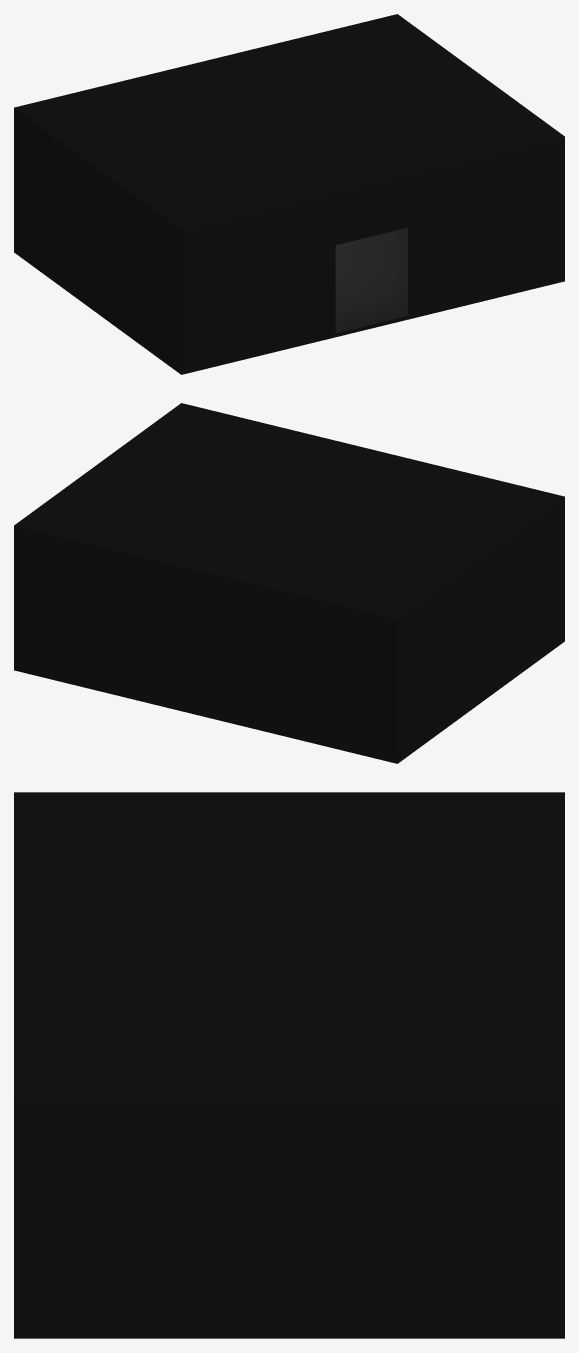
File: WT_Room_40x30_Dual_Screens.glb
3 renders of one model, top to bottom at view 1: azimuth 30°, elevation 25°; view 2: azimuth 150°, elevation 25°; view 3: azimuth 270°, elevation 25°, orthographic. The views are drawn at different scales.
Visible parts, largest first — view 1: Ceiling_Shell, Wall_Left, Wall_Rear_Right, Wall_Rear_Left, Floor, Entry_Header, Wall_Right; view 2: Ceiling_Shell, Wall_Front, Wall_Left, Floor, Wall_Right; view 3: Ceiling_Shell, Wall_Right, Floor.
Part boxes in pixels (bbox=[...]): Ceiling_Shell: bbox=[14, 14, 564, 233]; Wall_Left: bbox=[14, 111, 185, 370]; Wall_Rear_Right: bbox=[408, 141, 560, 314]; Wall_Rear_Left: bbox=[186, 196, 335, 369]; Floor: bbox=[14, 227, 564, 374]; Entry_Header: bbox=[335, 178, 410, 244]; Wall_Right: bbox=[560, 140, 564, 278]; Ceiling_Shell: bbox=[14, 403, 564, 622]; Wall_Front: bbox=[18, 530, 392, 758]; Wall_Left: bbox=[393, 500, 564, 759]; Floor: bbox=[14, 638, 564, 763]; Wall_Right: bbox=[14, 529, 18, 667]; Ceiling_Shell: bbox=[14, 792, 564, 1106]; Wall_Right: bbox=[14, 1106, 564, 1332]; Floor: bbox=[14, 1332, 564, 1338].
Size of the model in its own units: 12.49 by 4.51 by 9.44.
Materials: 22 (15 with a texture image).
